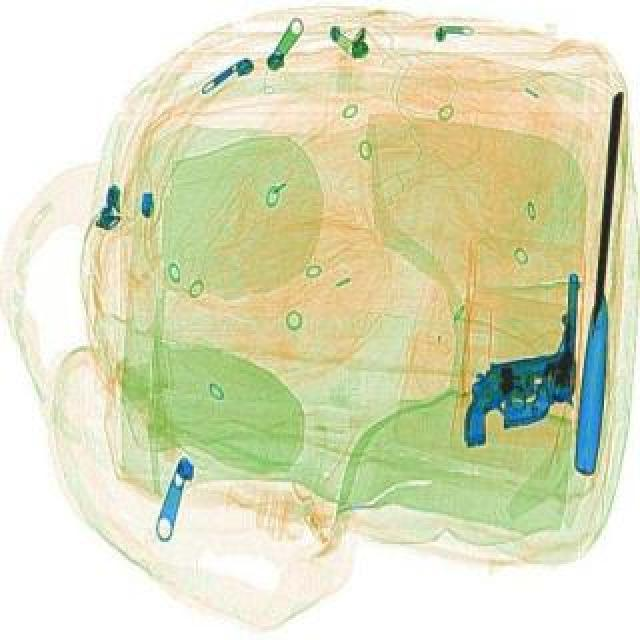gun: (448, 348, 596, 452), (506, 276, 584, 436)
knife: (574, 94, 636, 478)
